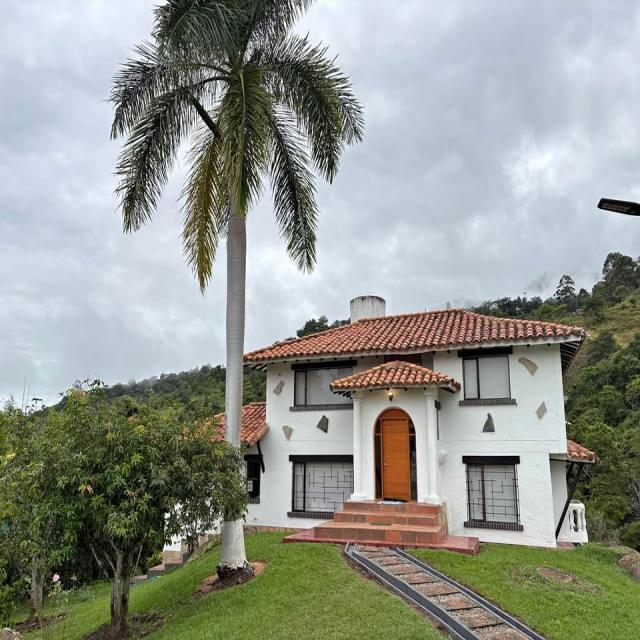Casa: (241, 295, 597, 548)
